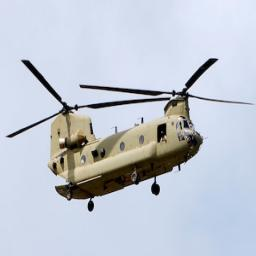helicopter: (7, 59, 256, 196)
